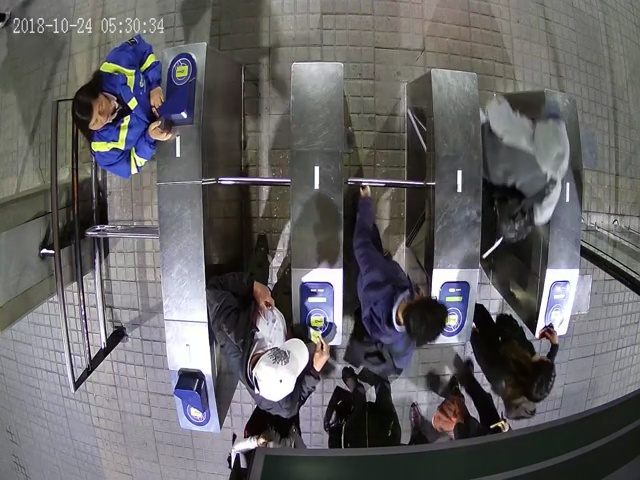Chaleco_azul: (72, 35, 172, 178)
